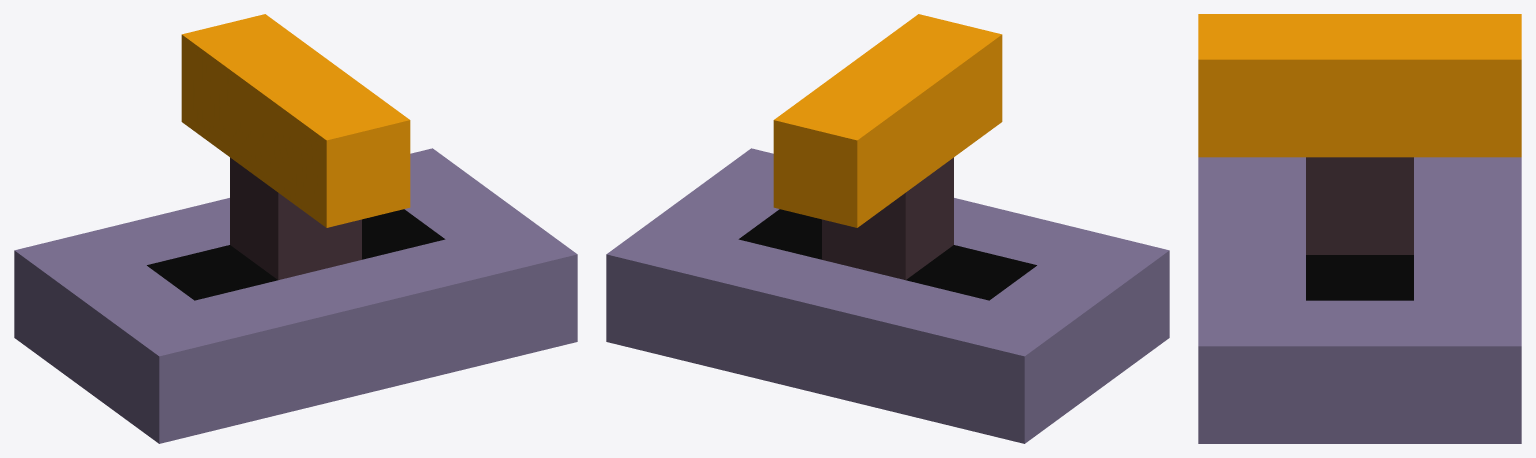
The model's file is lever_a_a_yellow_off.obj.
The picture shows the model from 3 angles, left to right: view 1: azimuth 30°, elevation 25°; view 2: azimuth 150°, elevation 25°; view 3: azimuth 270°, elevation 25°; orthographic projection. The views are drawn at different scales.
Size of the model in its own units: 0.5 by 0.3 by 0.3.
Materials: 1 (1 with a texture image).
